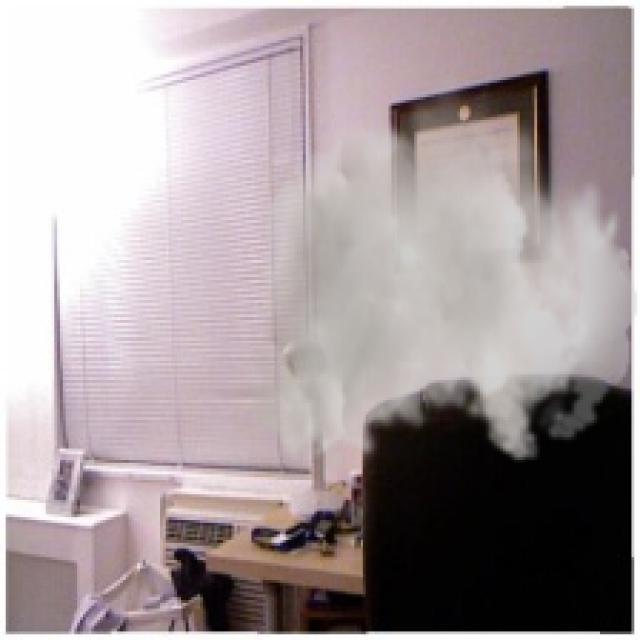smoke: (246, 69, 637, 477)
